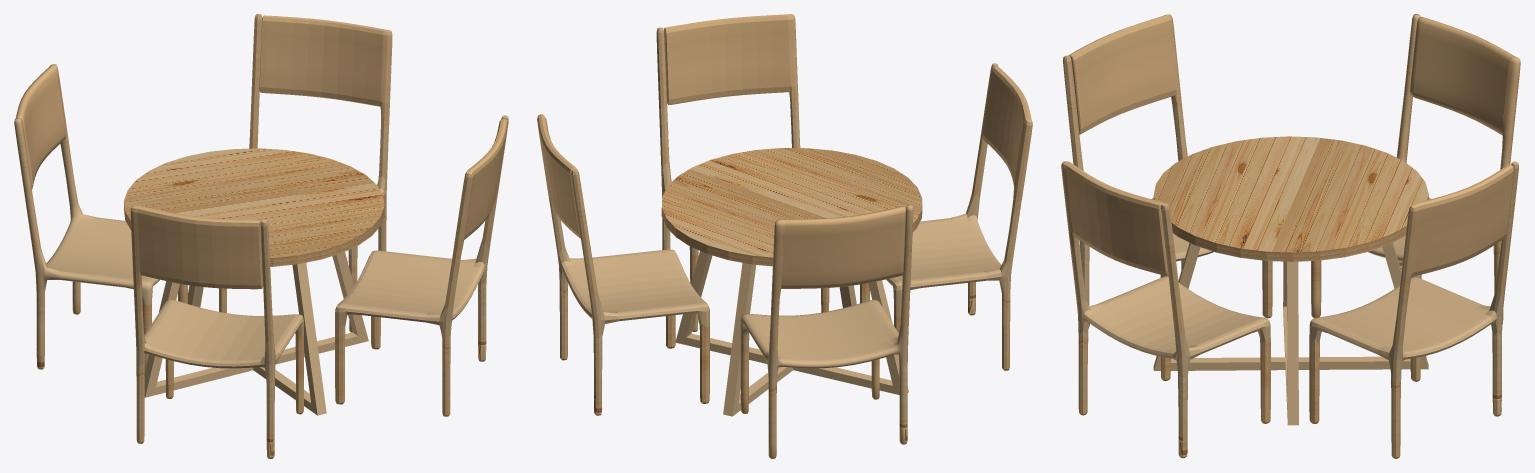
The model's file is ModernCafeTable.obj.
3 views of the same model, side by side, from view 1: azimuth 30°, elevation 25°; view 2: azimuth 150°, elevation 25°; view 3: azimuth 270°, elevation 25° (orthographic). The views are drawn at different scales.
Parts seen in each view (by area): view 1: Cube.001_Cube.002, Cube.003_Cube.004, Cube_Cube.001, Cube.004_Cube.005, Cube.002_Cube.003; view 2: Cube.001_Cube.002, Cube.002_Cube.003, Cube.004_Cube.005, Cube_Cube.001, Cube.003_Cube.004; view 3: Cube.001_Cube.002, Cube.004_Cube.005, Cube_Cube.001, Cube.003_Cube.004, Cube.002_Cube.003.
Part boxes in pixels (box(x1,y1,x2,y2)): Cube.001_Cube.002: box(124, 148, 384, 415); Cube.003_Cube.004: box(130, 205, 303, 458); Cube_Cube.001: box(335, 115, 508, 416); Cube.004_Cube.005: box(219, 14, 392, 332); Cube.002_Cube.003: box(14, 64, 187, 371); Cube.001_Cube.002: box(661, 148, 922, 416); Cube.002_Cube.003: box(740, 204, 913, 458); Cube.004_Cube.005: box(537, 114, 709, 415); Cube_Cube.001: box(656, 14, 829, 331); Cube.003_Cube.004: box(860, 63, 1032, 370); Cube.001_Cube.002: box(1153, 136, 1428, 425); Cube.004_Cube.005: box(1309, 161, 1518, 458); Cube_Cube.001: box(1061, 161, 1270, 458); Cube.003_Cube.004: box(1063, 14, 1272, 318); Cube.002_Cube.003: box(1311, 14, 1520, 324).
Size of the model in its own units: 1.54 by 0.9686 by 1.54.
